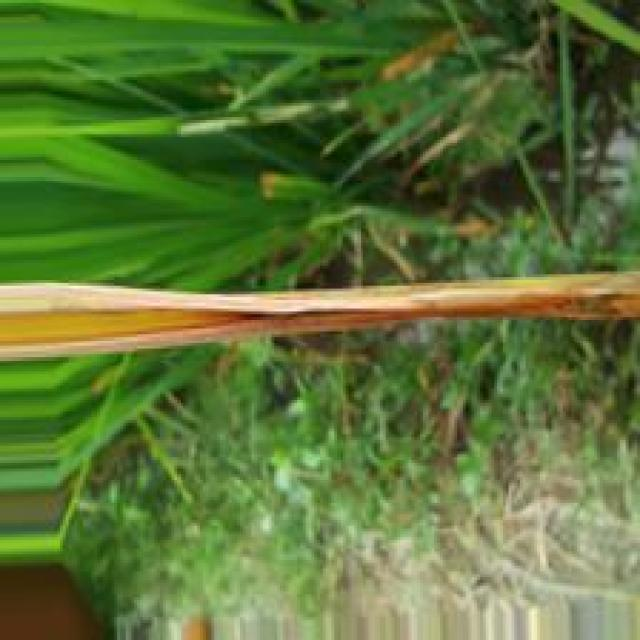Leaf_Scald: (0, 275, 640, 358)
